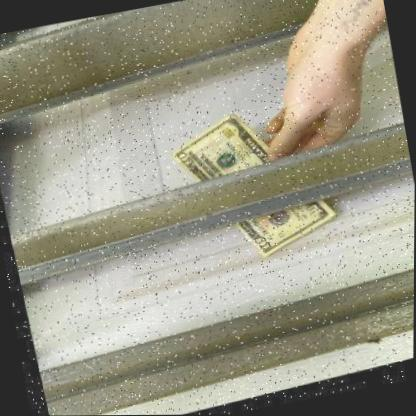ten-front: (168, 115, 334, 260)
